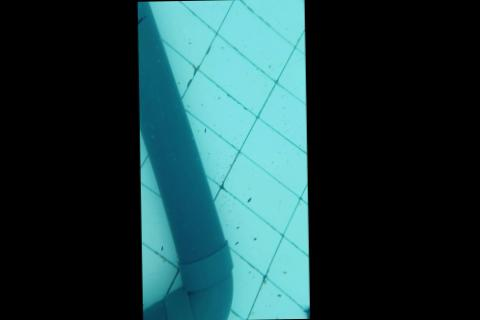keretakan: (135, 12, 147, 26)
